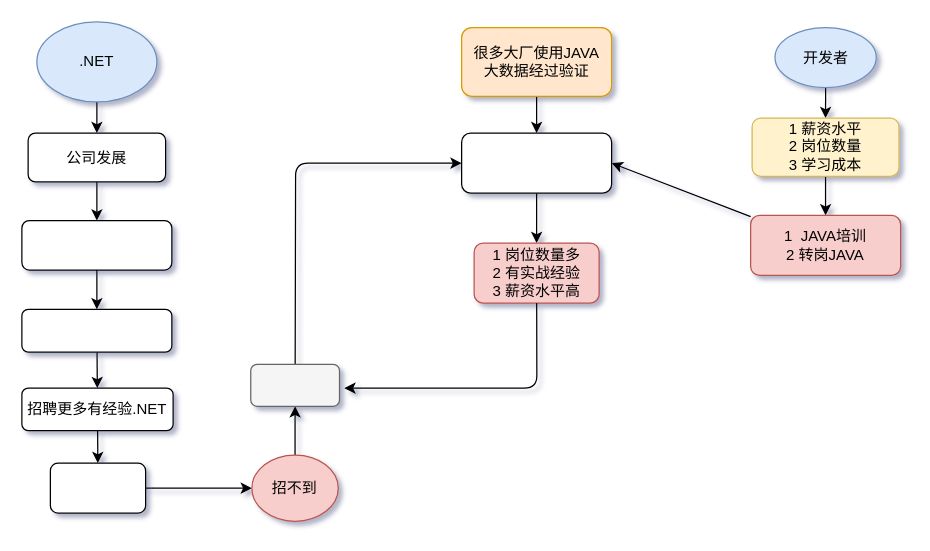
Some shapes in this 930 by 551 pixel diagram are drawn without their labels. The centre of each missing label's shape, as x and y in pixels:
"业务量提升 数据量提升" belongs at point 96,244.
"培养一大批有经验的Javaer" belongs at point 536,162.
"招JAVA" belongs at point 295,384.
"招聘更多开发" belongs at point 96,330.
"钱少/要求高" belongs at point 97,487.
